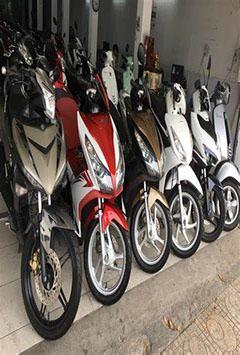motorcycle: (0, 53, 86, 344), (57, 49, 138, 317), (116, 67, 174, 292), (148, 77, 205, 268), (179, 80, 226, 251), (206, 77, 240, 239)
